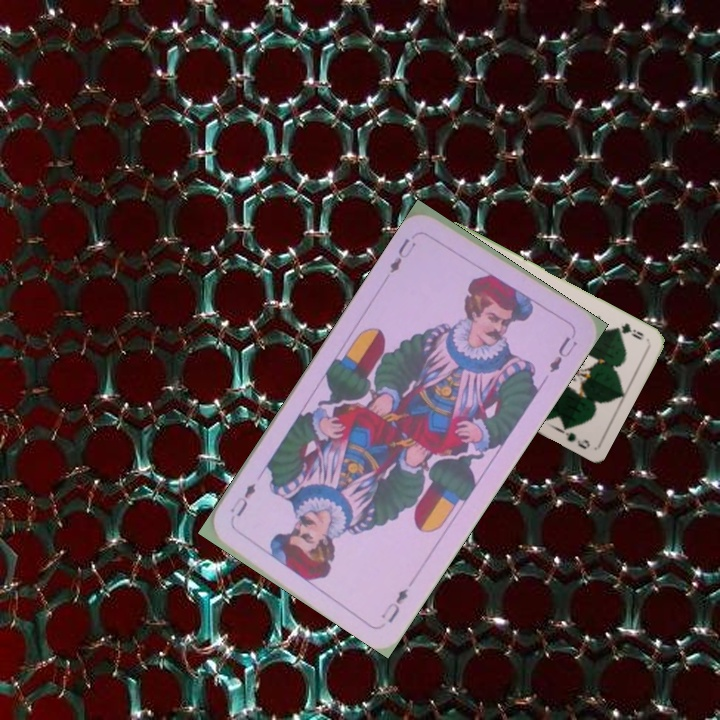EU: (376, 583, 411, 626), (385, 234, 419, 276)
G9: (610, 319, 646, 343)
